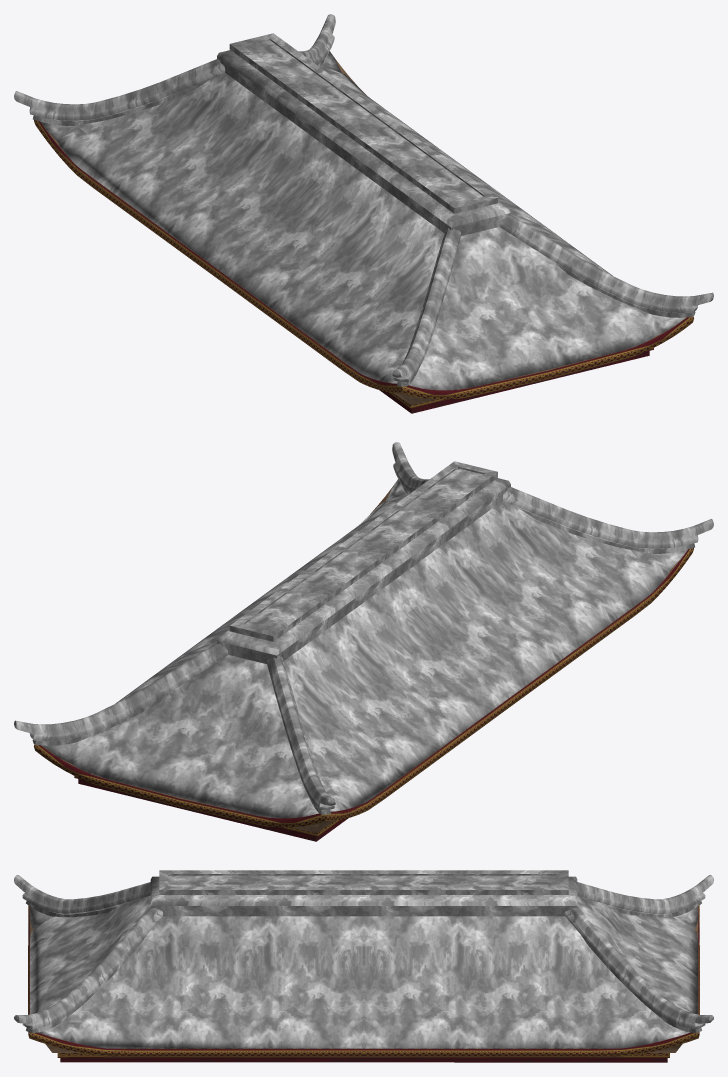
Rendered from SM_roof_04.fbx.
3 views of the same model, one above another, from view 1: azimuth 30°, elevation 25°; view 2: azimuth 150°, elevation 25°; view 3: azimuth 270°, elevation 25° (orthographic). The views are drawn at different scales.
Visible parts, largest first — view 1: SM_roof_04; view 2: SM_roof_04; view 3: SM_roof_04.
Boxes of the visible parts, x1,y1,x2,y2 form: SM_roof_04: (14,14,713,413); SM_roof_04: (14,442,713,841); SM_roof_04: (14,870,713,1062).
Size of the model in its own units: 1322 by 2737 by 559.
Materials: 5 (5 with a texture image).
